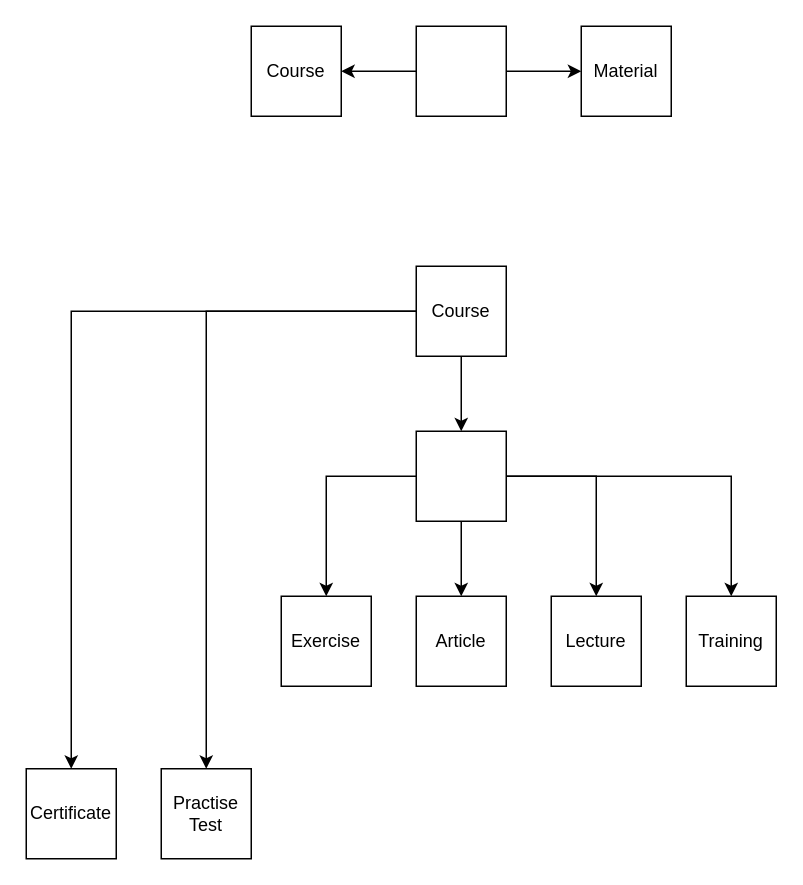
This 803x885 diagram has some shape labels left out. The shapes that lost their labels are listed below. From the top down, each one's box as (x1, y1, x2, y2) in pixels, then its label:
(415, 25, 506, 116): Learning Path
(415, 430, 506, 521): Chapter
